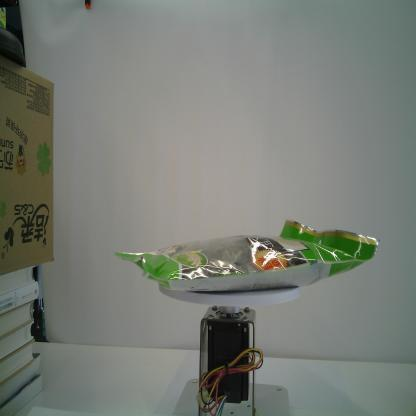Dried Food: (108, 215, 378, 296)
